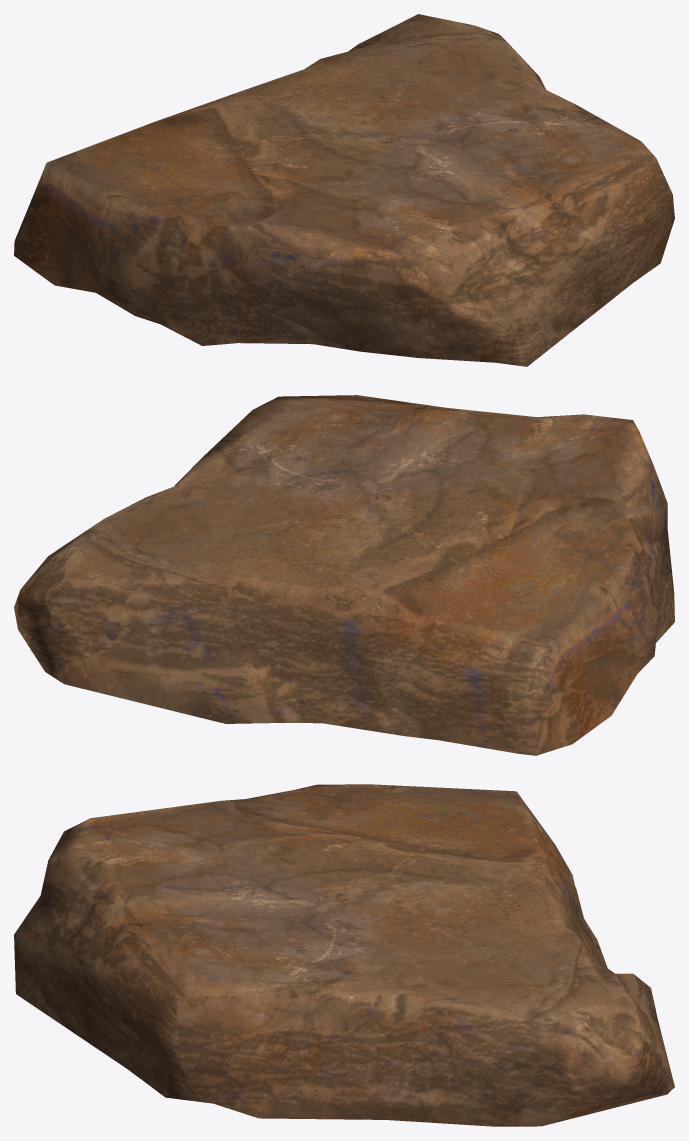
File: Rock_Shales_01.fbx
3 views of the same model, one above another, from view 1: azimuth 30°, elevation 25°; view 2: azimuth 150°, elevation 25°; view 3: azimuth 270°, elevation 25° (orthographic). The views are drawn at different scales.
Visible parts, largest first — view 1: polySurface234; view 2: polySurface234; view 3: polySurface234.
Part boxes in pixels (left/top/right/bottom): polySurface234: left=14, top=14, right=674, bottom=366; polySurface234: left=14, top=395, right=674, bottom=755; polySurface234: left=14, top=784, right=674, bottom=1126.
Bounding box in the file's own units: 100 × 23.21 × 107.
